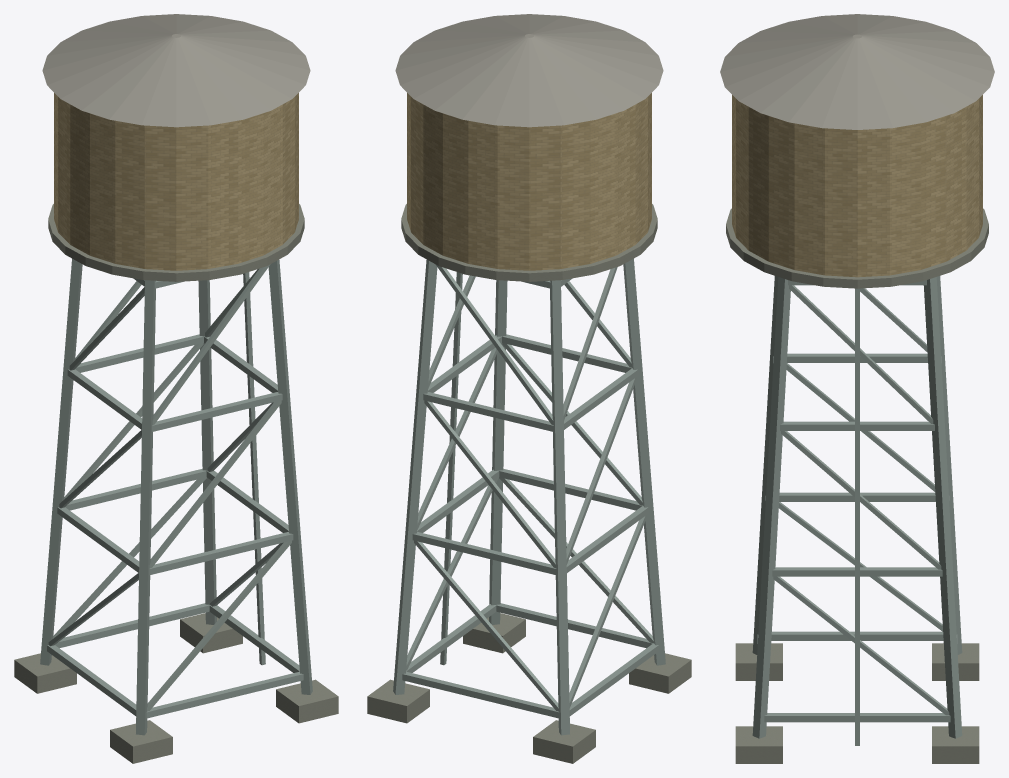
The model's file is water_tower.glb.
3 views of the same model, side by side, from view 1: azimuth 30°, elevation 25°; view 2: azimuth 150°, elevation 25°; view 3: azimuth 270°, elevation 25° (orthographic). The views are drawn at different scales.
Parts seen in each view (by area): view 1: water_tower; view 2: water_tower; view 3: water_tower.
Part boxes in pixels (left/top/right/bottom): water_tower: left=14, top=14, right=338, bottom=763; water_tower: left=367, top=14, right=691, bottom=763; water_tower: left=720, top=14, right=994, bottom=763.
Size of the model in its own units: 7 by 19 by 7.
4 materials, 2 textured.
